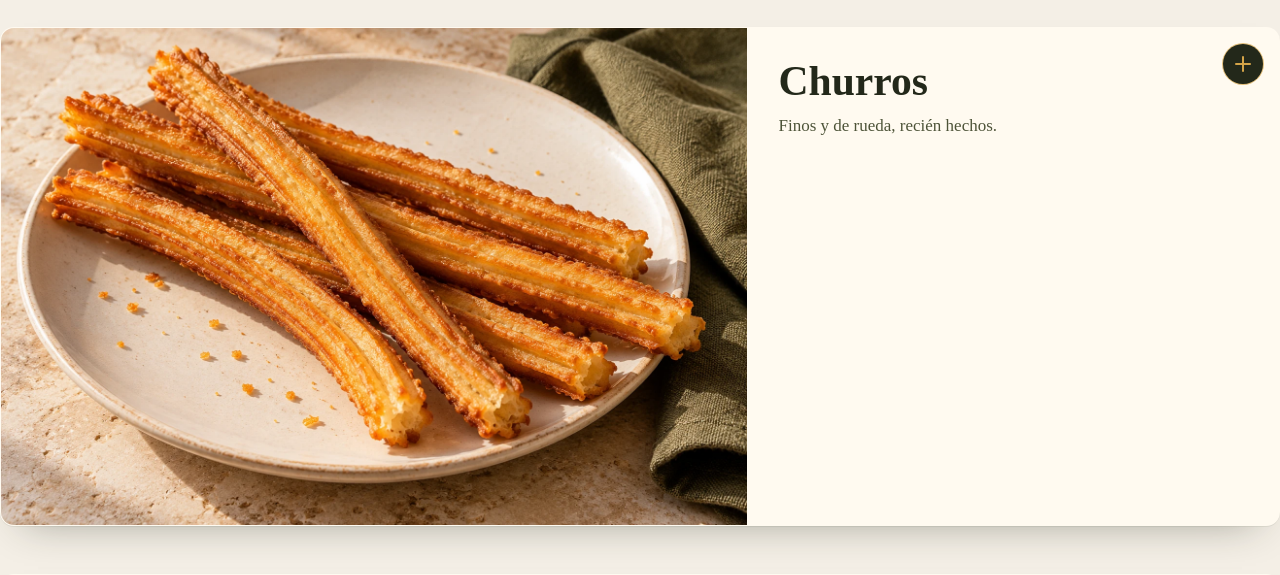
Test case: <CartaInteractiva> › se cierra al volver a pulsar
The width and height of the screenshot is (1280, 575).
(page scrolled)
Click the button "Churros Finos y de rueda, recién hechos.".
click(1203, 277)  # box x1=0 y1=27 x2=1279 y2=526
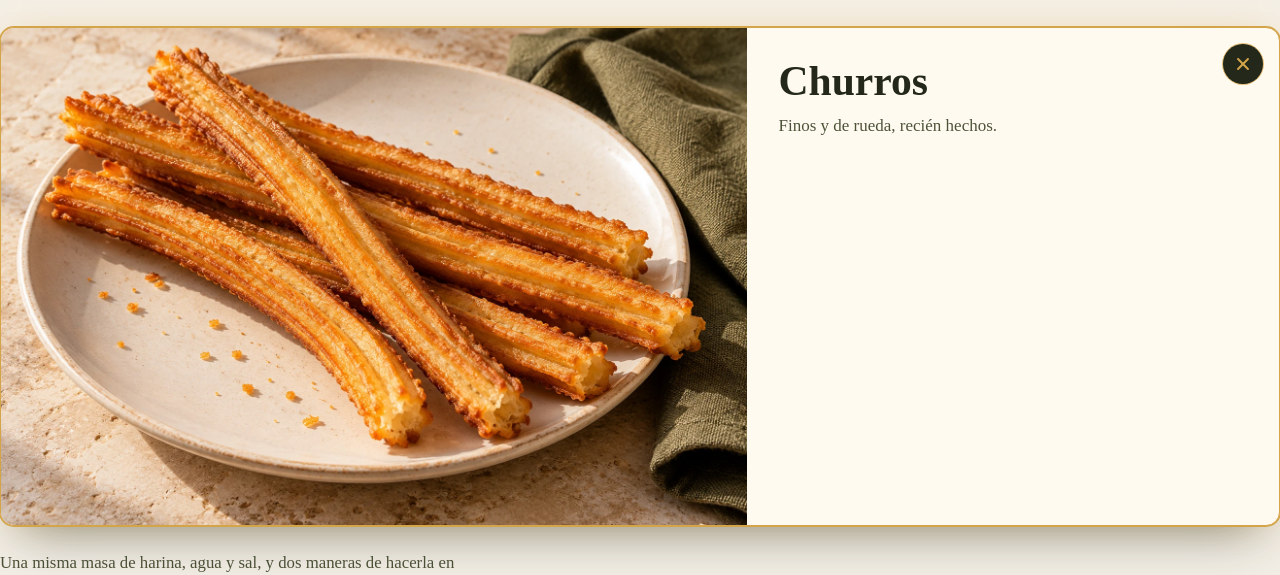
Click the button "Churros Finos y de rueda, recién hechos.".
click(1203, 277)  # box x1=0 y1=27 x2=1279 y2=526
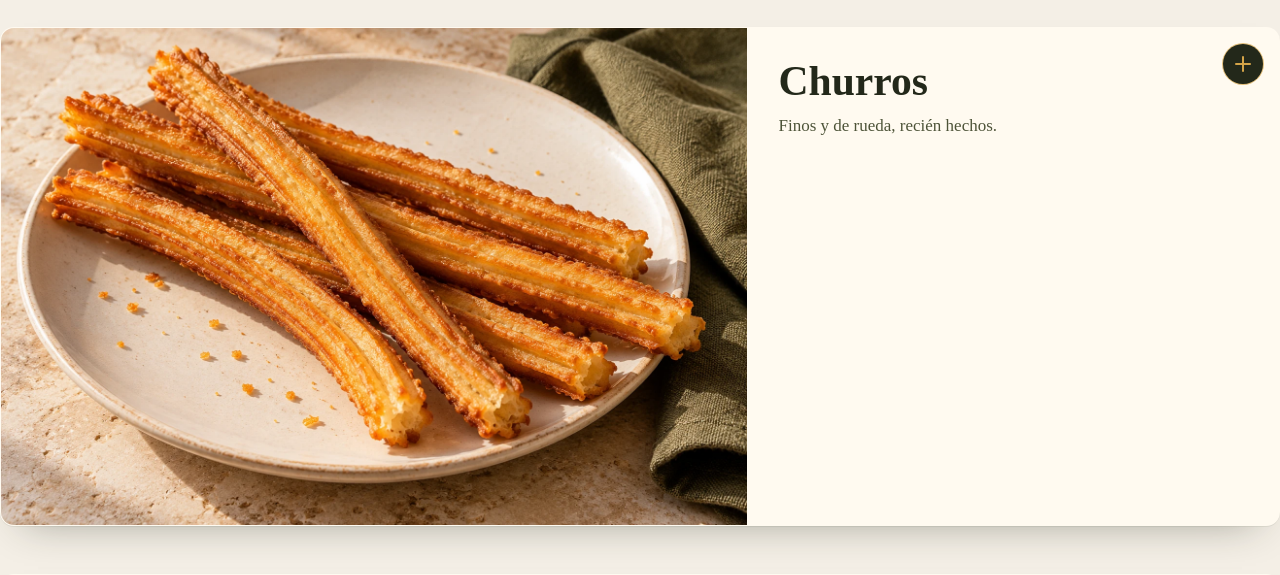
Expected: the button "Churros Finos y de rueda, recién hechos." is collapsed
